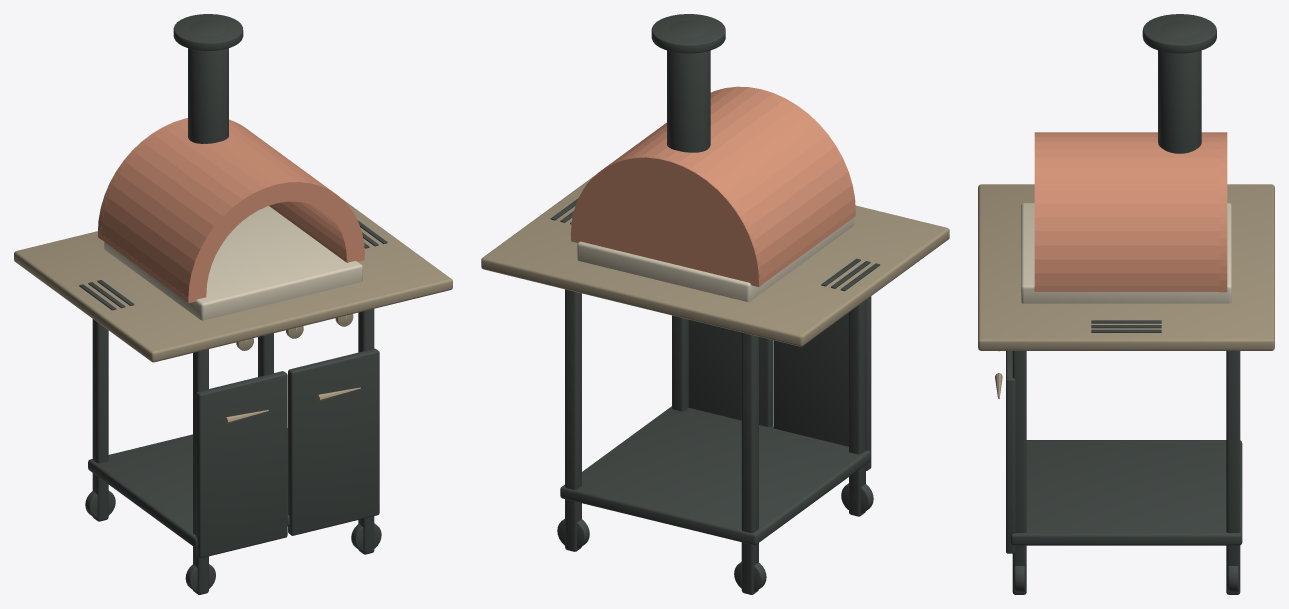
File: pizza-oven-cart.glb
3 renders of one model, left to right at view 1: azimuth 30°, elevation 25°; view 2: azimuth 150°, elevation 25°; view 3: azimuth 270°, elevation 25°, orthographic. The views are drawn at different scales.
Parts seen in each view (by area): view 1: catalog_surface_RealismUV; view 2: catalog_surface_RealismUV; view 3: catalog_surface_RealismUV.
Part boxes in pixels (bbox=[...]): catalog_surface_RealismUV: bbox=[14, 14, 452, 594]; catalog_surface_RealismUV: bbox=[481, 14, 949, 594]; catalog_surface_RealismUV: bbox=[978, 14, 1274, 594].
Bounding box in the file's own units: 1 × 1.55 × 0.8.
